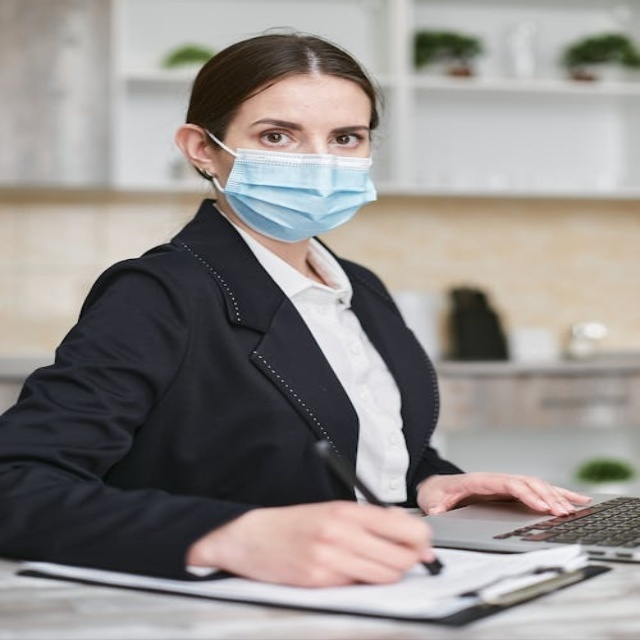Mascara: (206, 129, 377, 242)
Sin_gafas: (244, 110, 369, 154)
Sin_guantes: (196, 497, 437, 589), (416, 470, 593, 518)
